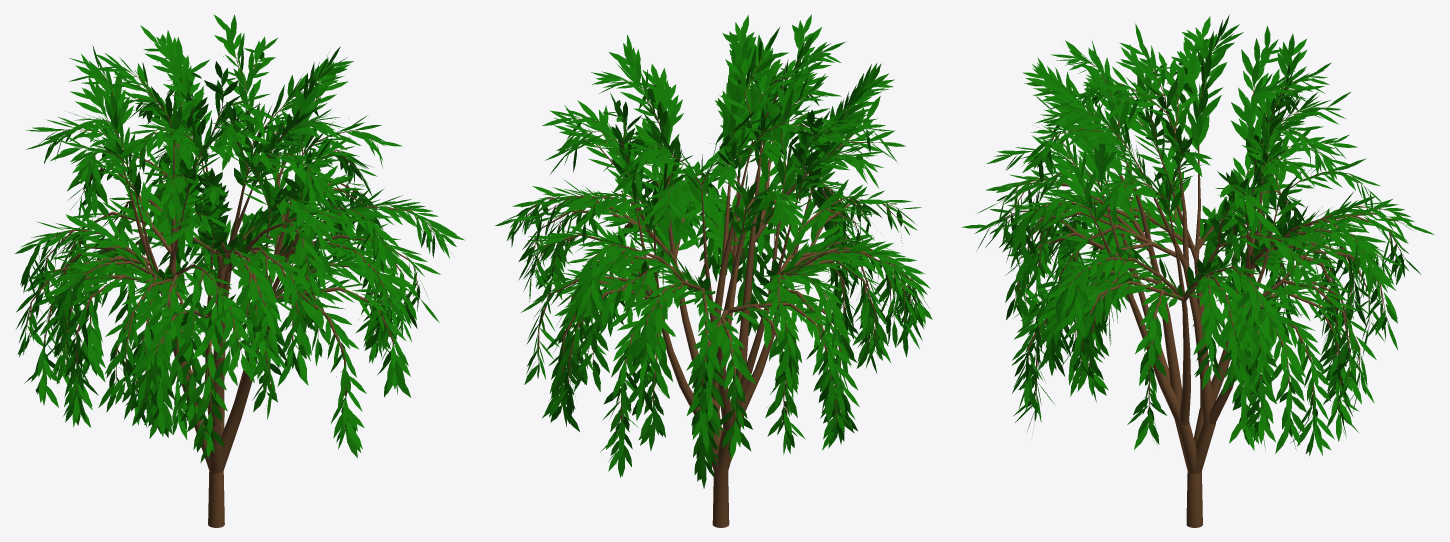
The model's file is Tree5.fbx.
3 views of the same model, side by side, from view 1: azimuth 30°, elevation 25°; view 2: azimuth 150°, elevation 25°; view 3: azimuth 270°, elevation 25° (orthographic).
Parts seen in each view (by area): view 1: leaves, tree; view 2: leaves, tree; view 3: leaves, tree.
Part boxes in pixels (bbox=[...]): leaves: bbox=[14, 14, 464, 462]; tree: bbox=[25, 53, 439, 527]; leaves: bbox=[495, 14, 932, 488]; tree: bbox=[527, 44, 916, 527]; leaves: bbox=[962, 14, 1434, 456]; tree: bbox=[1000, 38, 1404, 527].
Bounding box in the file's own units: 544 × 667 × 589.
